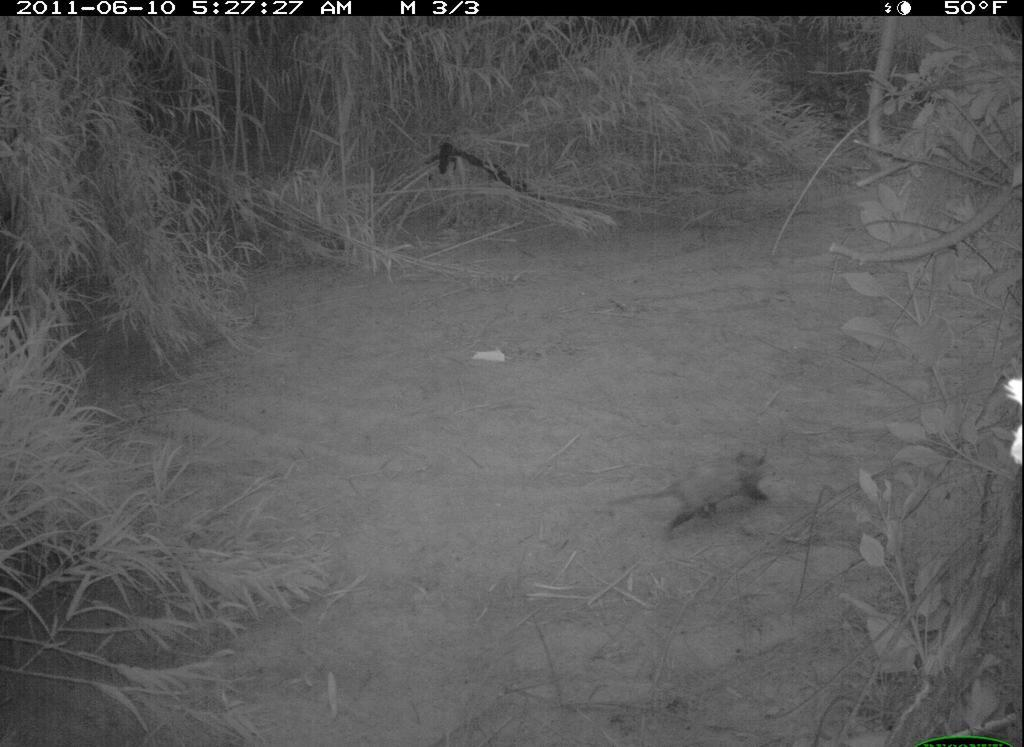opossum: (602, 436, 790, 560)
